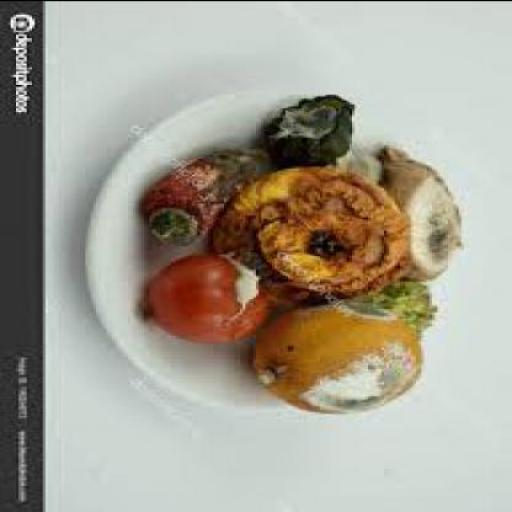biodegradable: (213, 164, 413, 304), (250, 295, 429, 411), (376, 143, 467, 278), (144, 146, 267, 245), (152, 251, 278, 342), (266, 93, 358, 165), (371, 283, 440, 334), (350, 150, 382, 175)
